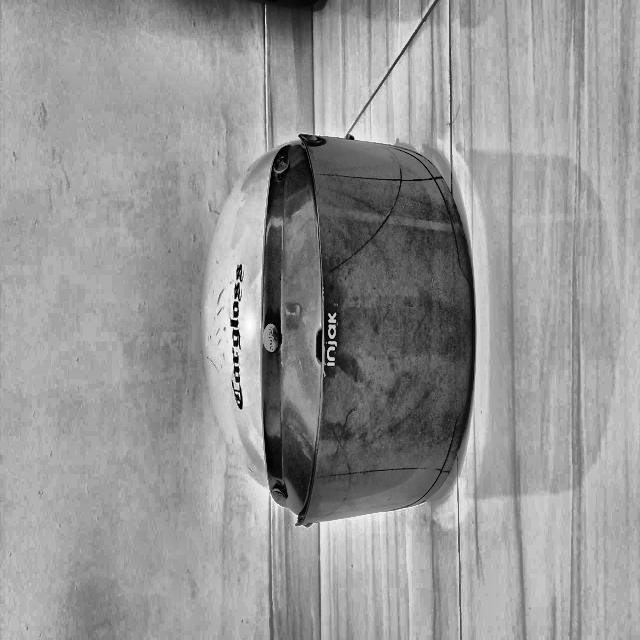Helmet: (56, 342, 307, 640)
